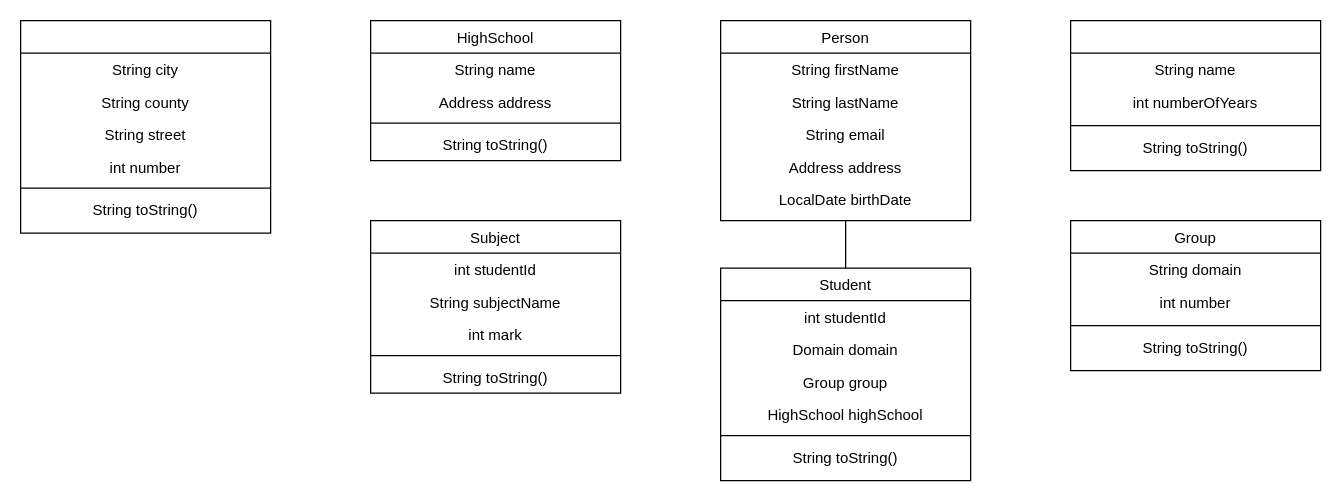
Some shapes in this 1341 by 501 pixel diagram are drawn without their labels. Each missing label, with the box of its shape:
Address: (19, 19, 271, 233)
Domain: (1069, 19, 1321, 171)
